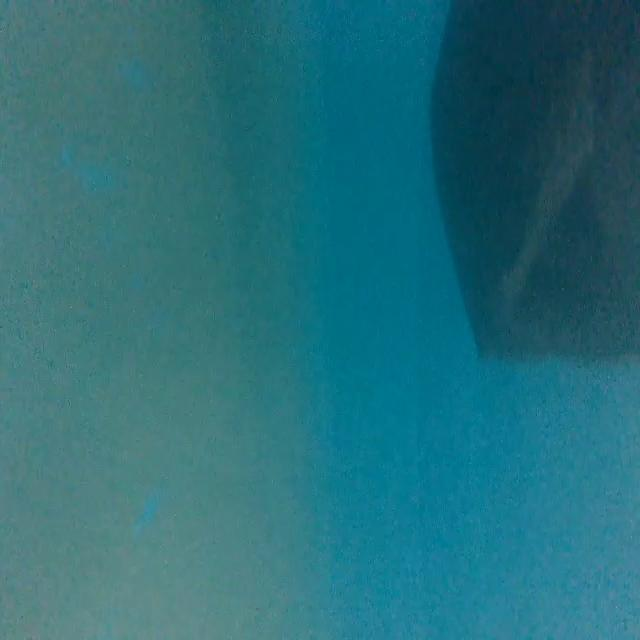plastic bags: (427, 4, 640, 359)
